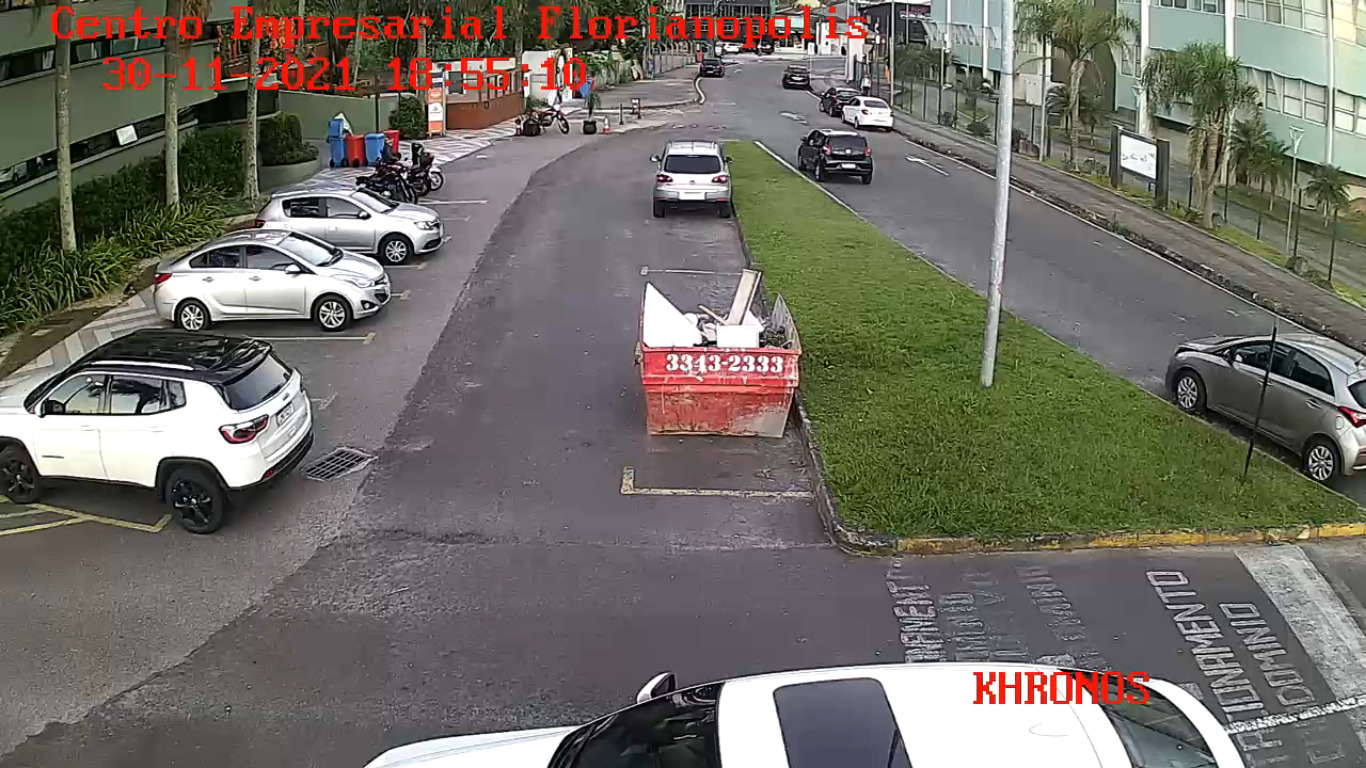car: (1, 325, 322, 536), (1164, 327, 1366, 485), (150, 226, 393, 330), (252, 183, 445, 267), (649, 138, 734, 218), (795, 128, 874, 185)
misc: (633, 263, 803, 441), (300, 445, 377, 480)
motorcycle: (355, 164, 414, 208), (379, 154, 435, 196), (521, 101, 570, 136)
